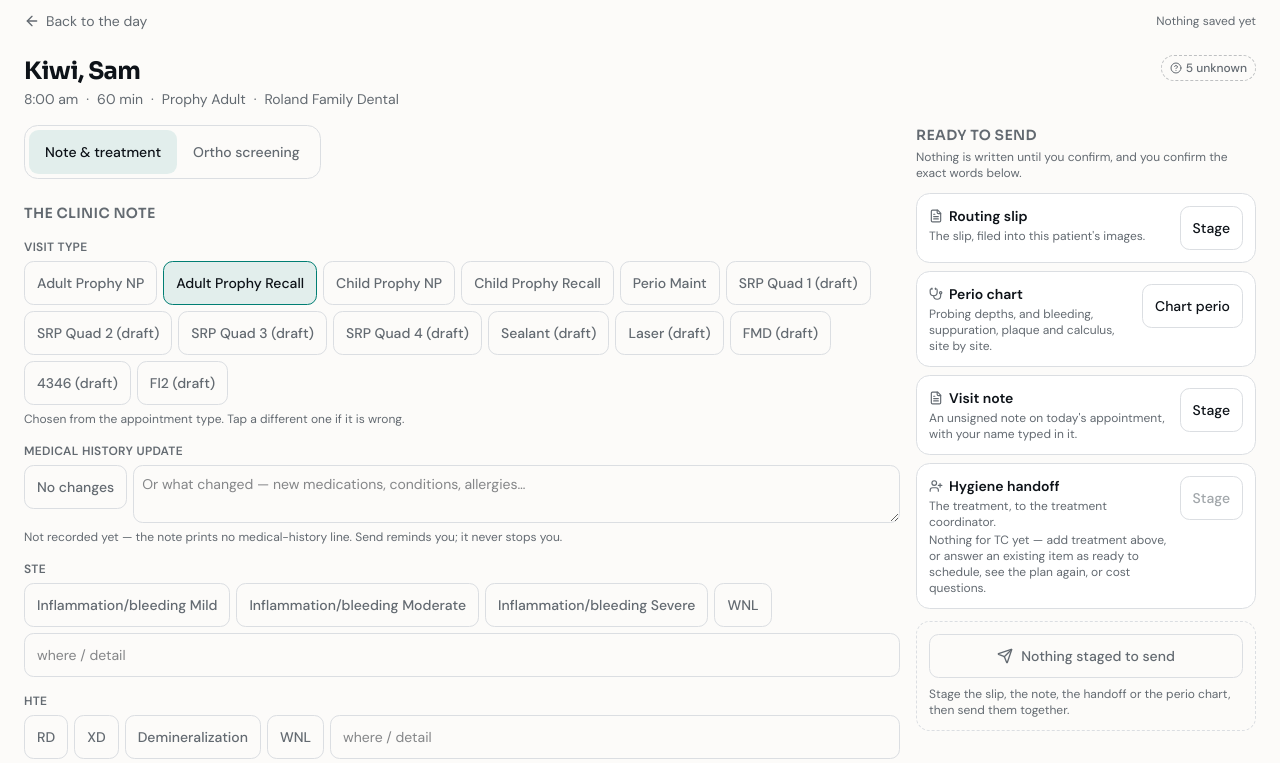
Test: 5 + 6: the send › flushes the pending autosave FIRST, then sends with no patient, office body or provider
Click the tab with test id "hyg-visit-tab-ortho" at (246, 152), box [177,130,316,174]
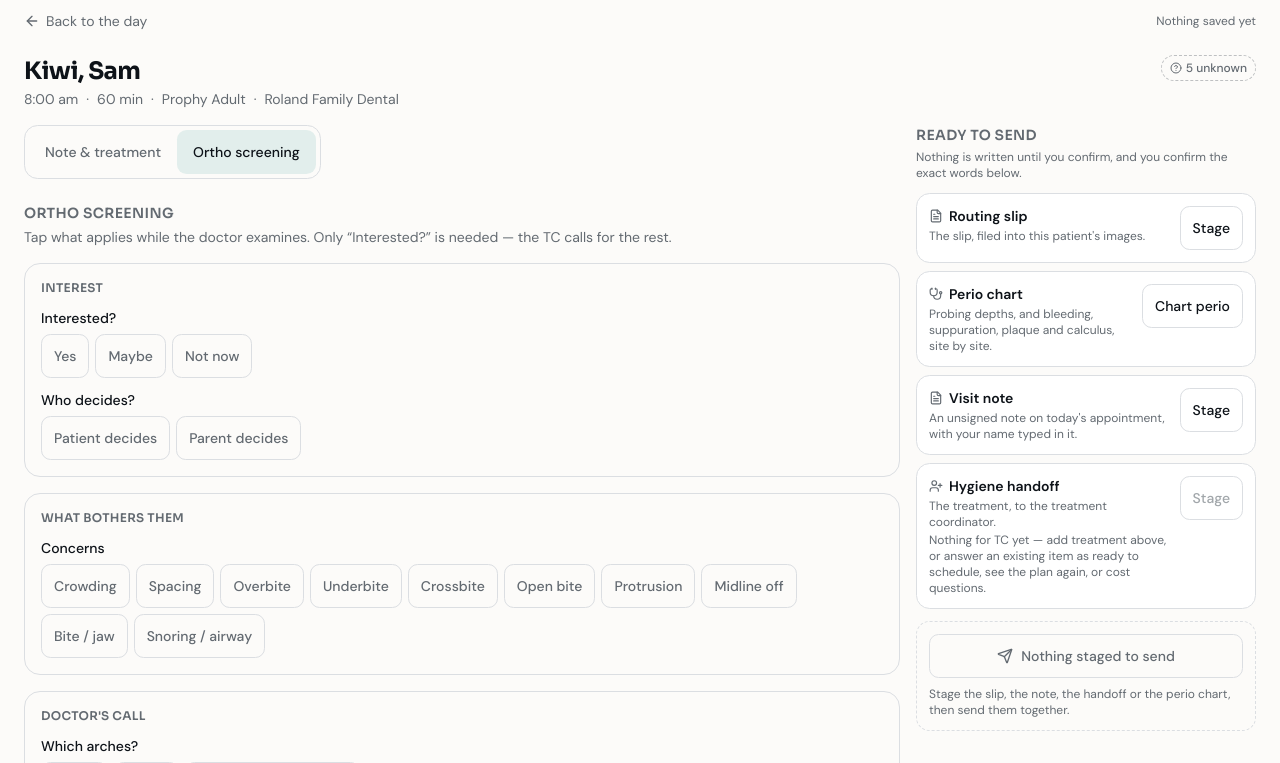
Click the button with test id "ortho-interest-yes" at (65, 356), box [41,334,89,378]
(page scrolled)
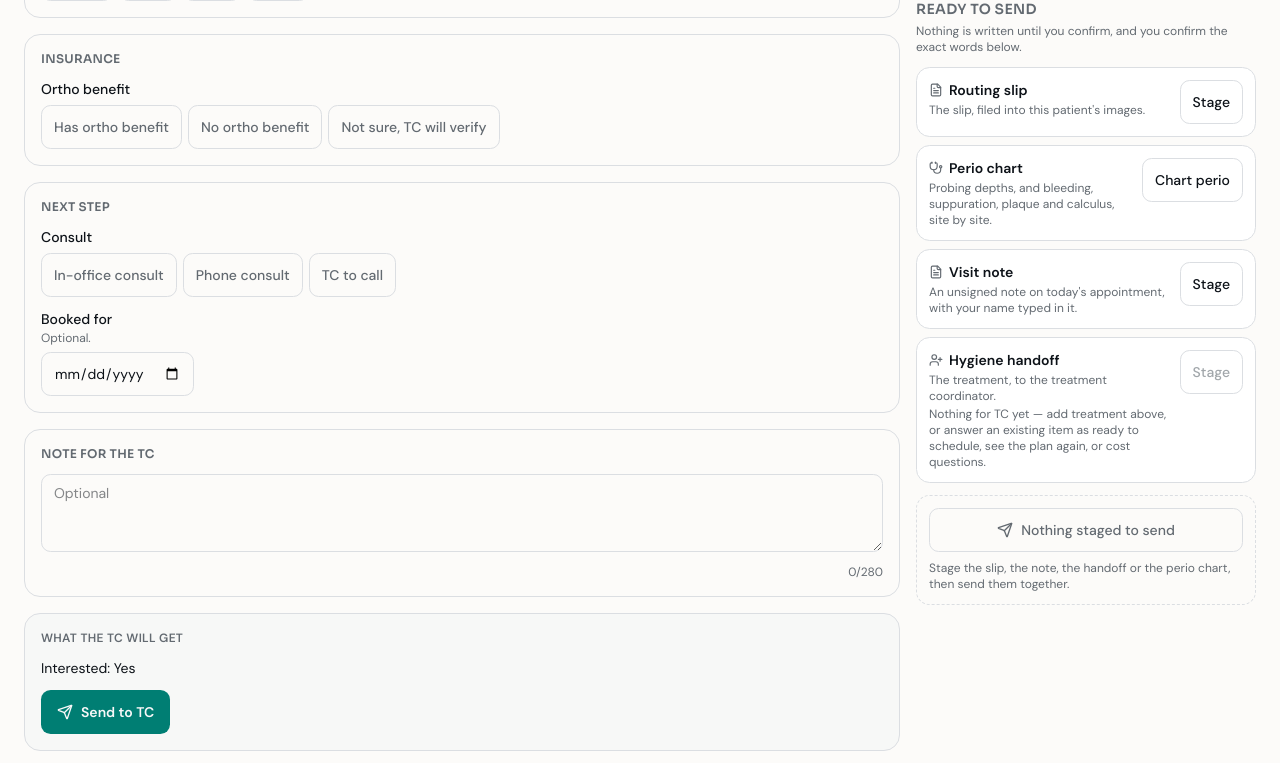
Click the button with test id "ortho-send" at (106, 712), box [41,690,170,734]
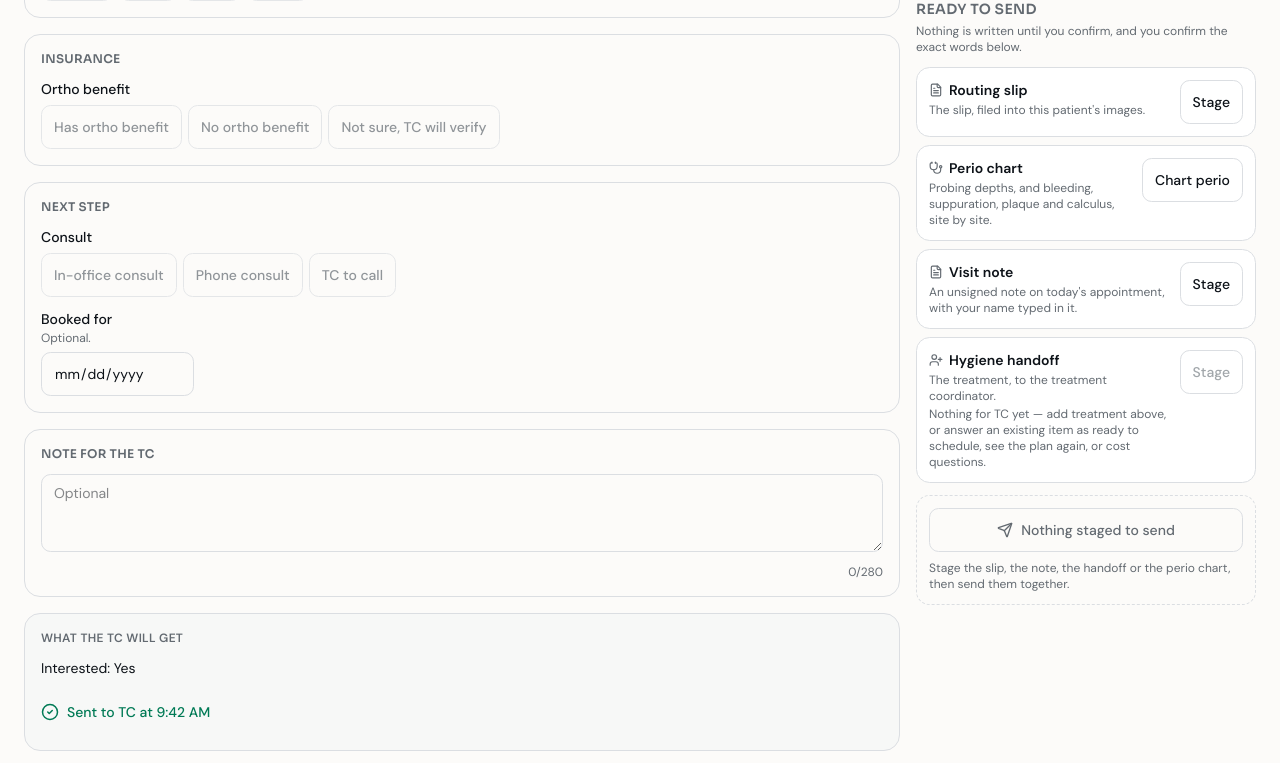
Result: the element with test id "ortho-sent" is shown at [41,703,210,721]
